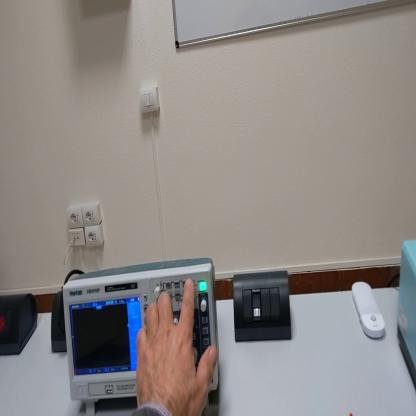hand: (134, 278, 220, 414)
oscilloscope: (63, 256, 220, 416)
socket: (2, 292, 38, 358), (51, 291, 67, 354)
welder station: (400, 241, 416, 389)
